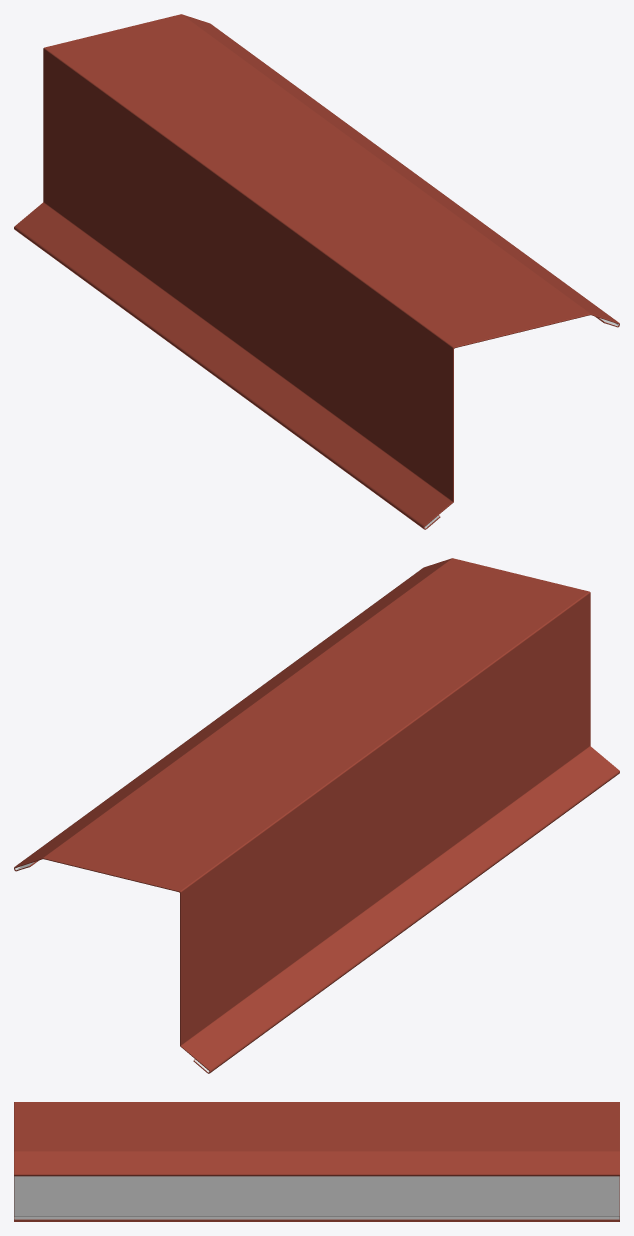
The picture shows the model from 3 angles, top to bottom: view 1: azimuth 30°, elevation 25°; view 2: azimuth 150°, elevation 25°; view 3: azimuth 270°, elevation 25°; orthographic projection. The views are drawn at different scales.
Visible parts, largest first — view 1: w1ll-k; view 2: w1ll-k; view 3: w1ll-k, w1ll-b.
Part boxes in pixels (x1=…): w1ll-k: x1=14, y1=14, x2=619, y2=529; w1ll-k: x1=14, y1=558, x2=619, y2=1073; w1ll-k: x1=14, y1=1102, x2=619, y2=1221; w1ll-b: x1=14, y1=1176, x2=619, y2=1219.
Bounding box in the file's own units: 555 × 473 × 2002.
